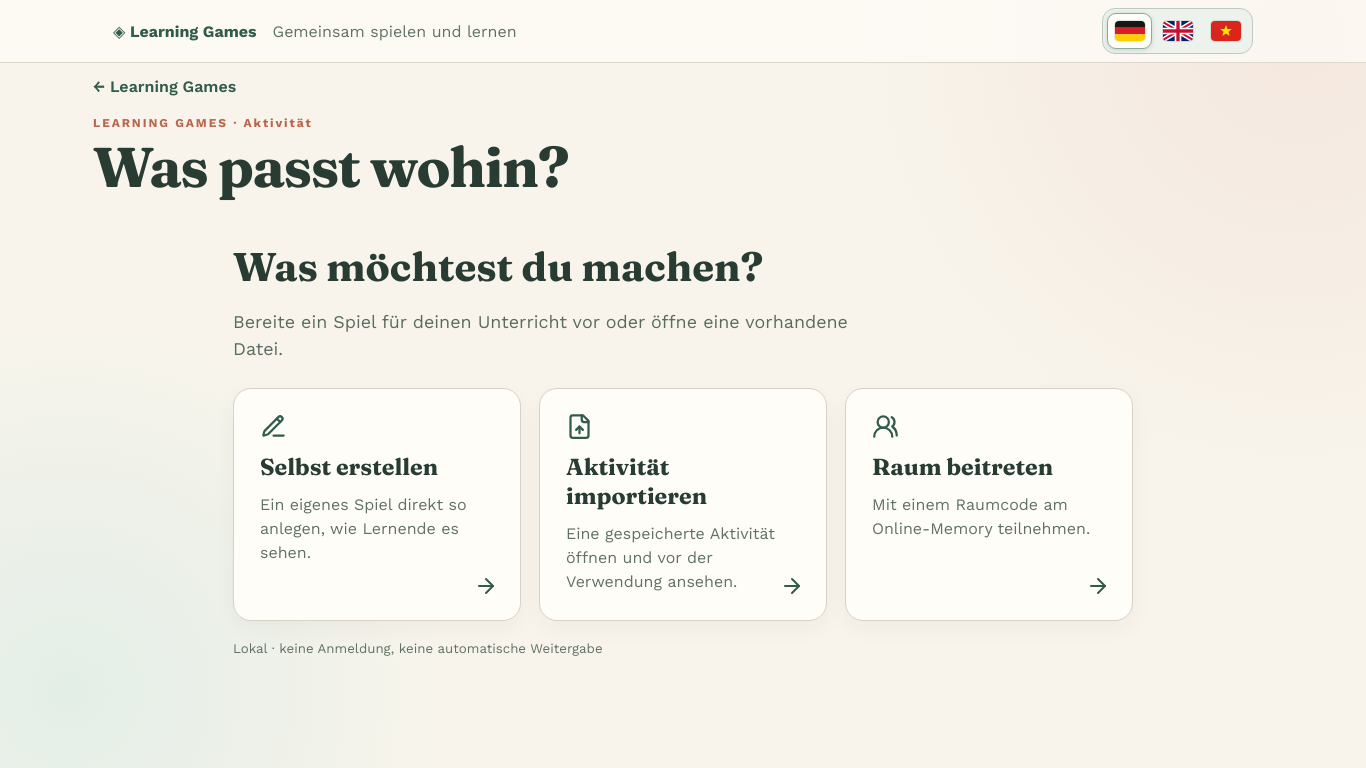
Test: Sort canvas: the bins are the editor › opens calm, with title, two bins holding two cards each, and no answer dropdown or navigator
Click the button "Selbst erstellen".
click(377, 505)  # box [233,388,521,622]
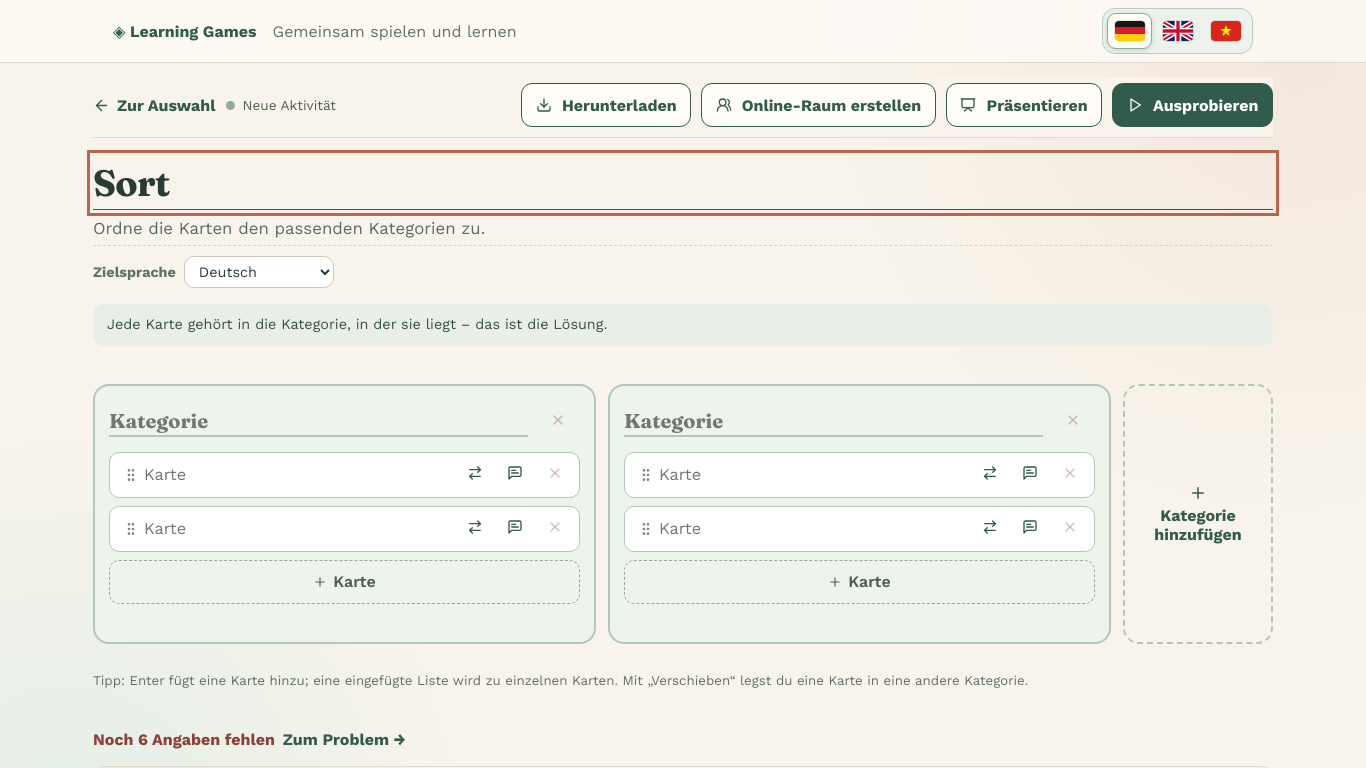
Expected: the button "Weiter" is not shown
Expected: the field named "Titel" is shown, [93,156,1273,210]
Expected: the number of fields labelled "Karte" is 4, [142,456,455,494]; [142,510,455,548]; [657,456,970,494]; [657,510,970,548]
